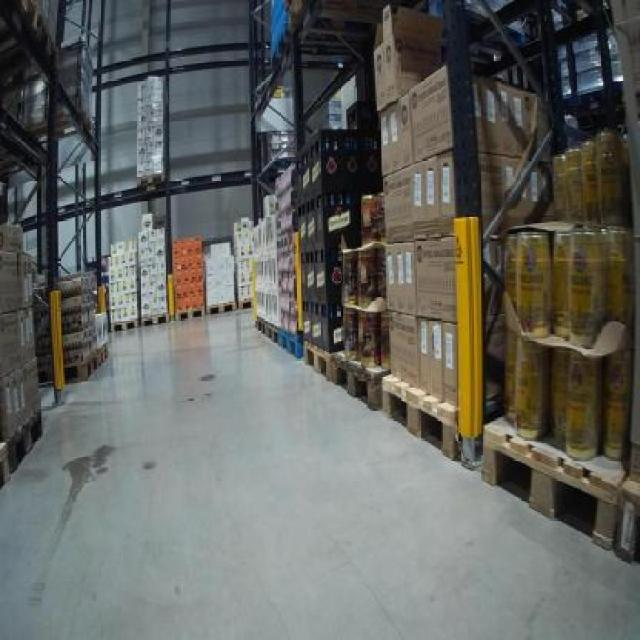pallet: (478, 413, 630, 555), (382, 350, 458, 470), (319, 337, 392, 414), (39, 334, 120, 392), (0, 405, 50, 480), (299, 328, 344, 397), (274, 312, 306, 371), (100, 308, 146, 335), (172, 300, 207, 322), (139, 308, 170, 328), (210, 300, 242, 319)
